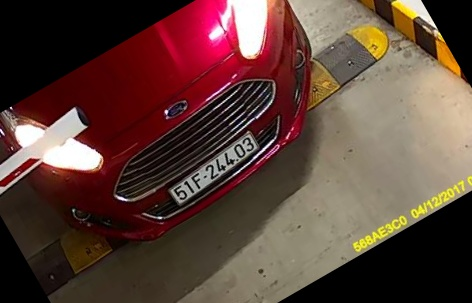plate: (171, 133, 260, 218)
